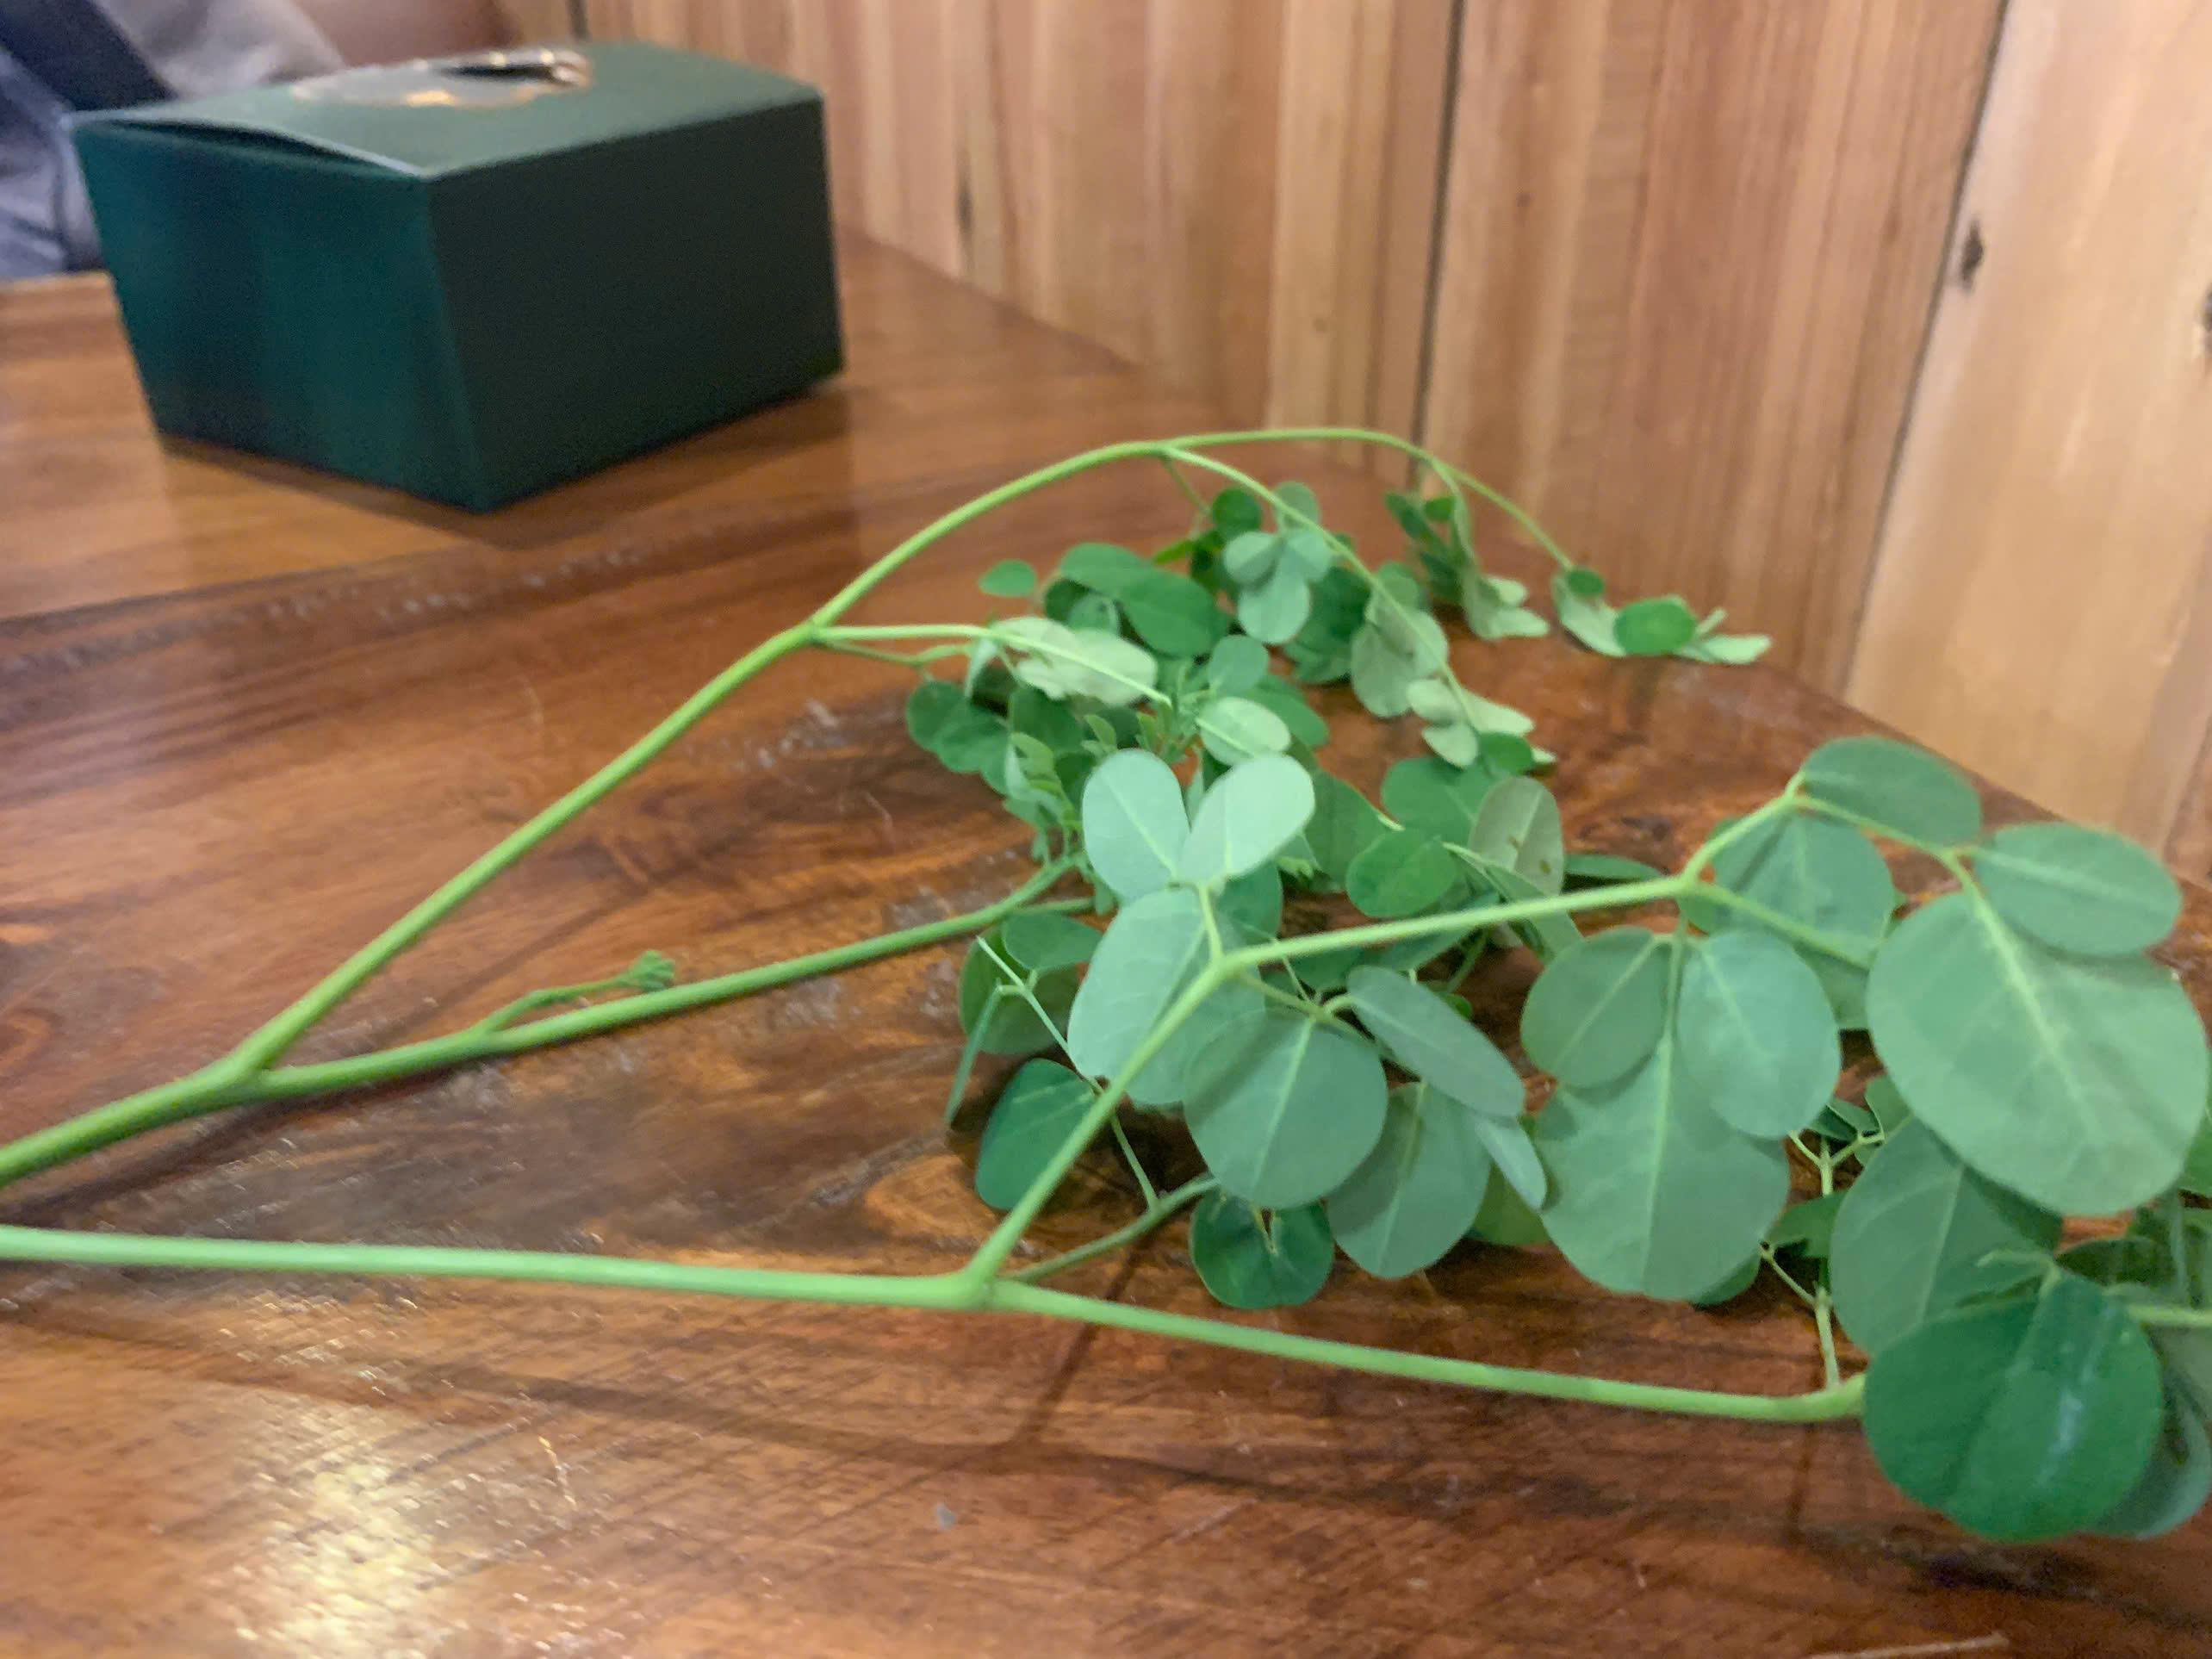Huu co: (247, 451, 2179, 1401)
